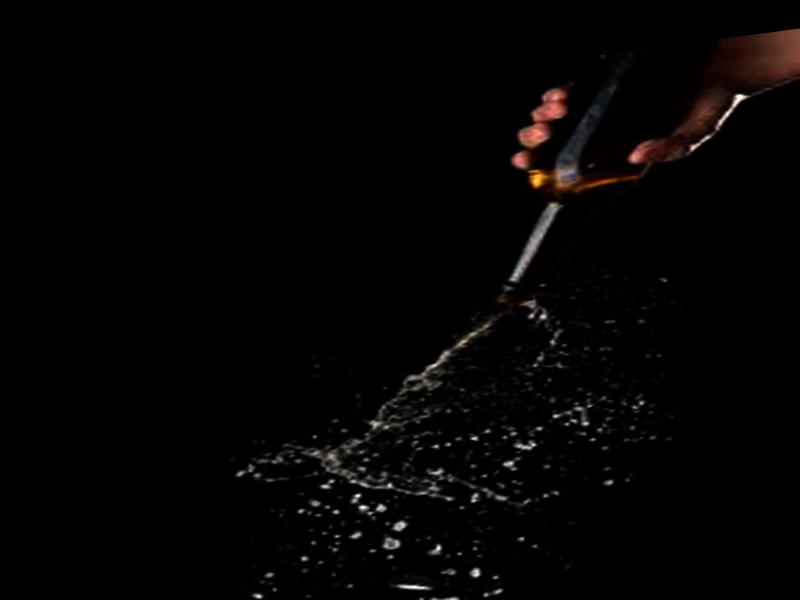Beer: (458, 40, 755, 307)
